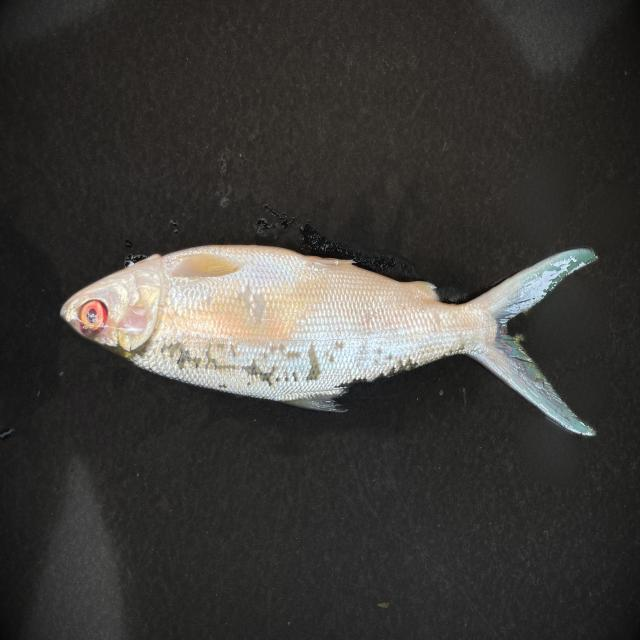660 g: (60, 245, 597, 436)
